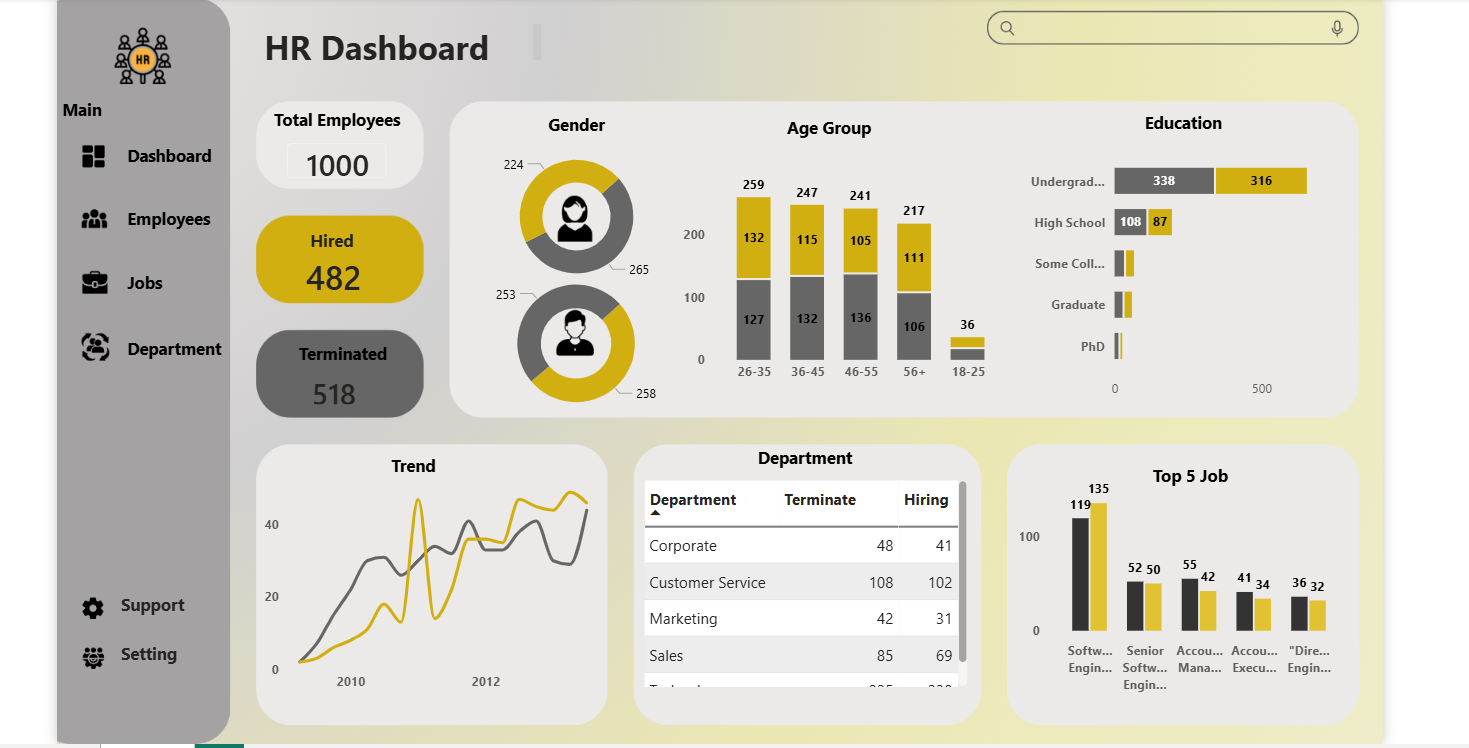

This screenshot's page, from the dashboard's own definition file:
{"tool":"powerbi","page":{"name":"Page 1","canvas":[1280,720],"ordinal":0},"visuals":[{"type":"textbox","box":[195,20,276.7,48.3],"z":0},{"type":"cardVisual","fields":{"Data":["HR_Dataset.Total_Employees"]},"box":[205,123.3,130,68.3],"z":1000},{"type":"cardVisual","fields":{"Data":["HR_Dataset.Hiring"]},"box":[211.7,236.7,131.7,63.3],"z":2000},{"type":"cardVisual","fields":{"Data":["HR_Dataset.Terminate"]},"box":[216.7,352.2,108.9,57.8],"z":3000},{"type":"donutChart","fields":{"Category":["HR_Dataset.Active_Status"],"Y":["CountNonNull(HR_Dataset.Gender)"]},"box":[406.2,123.8,190,173.8],"z":4000},{"type":"donutChart","fields":{"Category":["HR_Dataset.Active_Status"],"Y":["CountNonNull(HR_Dataset.Gender)"]},"box":[395,248.3,213.3,170],"z":5000},{"type":"columnChart","fields":{"Category":["HR_Dataset.Age_Group"],"Y":["CountNonNull(HR_Dataset.EmployeeID)"],"Series":["HR_Dataset.Active_Status"]},"box":[600,155,323.3,225],"z":6000},{"type":"barChart","fields":{"Category":["HR_Dataset.Education"],"Y":["CountNonNull(HR_Dataset.EmployeeID)"],"Series":["HR_Dataset.Active_Status"]},"box":[923.3,135,340,260],"z":7000},{"type":"lineChart","fields":{"Y":["CountNonNull(HR_Dataset.EmployeeID)"],"Category":["HR_Dataset.Start_Date.Variation.Date Hierarchy.Year","HR_Dataset.Start_Date.Variation.Date Hierarchy.Quarter"],"Series":["HR_Dataset.Active_Status"]},"box":[195,460,335,218.3],"z":8000},{"type":"tableEx","fields":{"Values":["HR_Dataset.Department","HR_Dataset.Terminate","HR_Dataset.Hiring"]},"box":[561.4,461.4,322.9,208.6],"z":9000},{"type":"clusteredColumnChart","fields":{"Category":["HR_Dataset.Job_title"],"Y":["CountNonNull(HR_Dataset.EmployeeID)"],"Series":["HR_Dataset.Active_Status"]},"box":[923.3,451.7,330,226.7],"z":10000},{"type":"textbox","box":[173.3,101.7,193.3,33.3],"z":11000},{"type":"textbox","box":[433.3,106.7,136.7,35],"z":12000},{"type":"textbox","box":[216.2,327.5,120,32.5],"z":13000},{"type":"textbox","box":[211.7,218.3,108.3,33.3],"z":14000},{"type":"textbox","box":[661.7,108.3,168.3,31.7],"z":15000},{"type":"textbox","box":[1001.7,103.3,171.7,31.7],"z":16000},{"type":"textbox","box":[640,426.7,165,38.3],"z":17000},{"type":"textbox","box":[250,435,188.3,33.3],"z":18000},{"type":"textbox","box":[1011.7,445,163.3,38.3],"z":19000},{"type":"textbox","box":[0,91.7,75,43.3],"z":20000},{"type":"textbox","box":[63.3,196.7,111.7,43.3],"z":21000},{"type":"textbox","box":[63.3,258.3,95,31.7],"z":22000},{"type":"textbox","box":[63.3,321.7,111.7,38.3],"z":23000},{"type":"textbox","box":[63.3,136.7,93.3,40],"z":24000},{"type":"textbox","box":[56.7,616.7,101.7,36.7],"z":25000},{"type":"textbox","box":[56.7,570,111.7,36.7],"z":25001}]}

Visuals, with their boxes on the page's 1280x720 design canvas (x1, y1, x2, y2). These are canvas units, not pixel positions in the 1469x748 screenshot, which may show the page scaled, cropped or inside an application window:
textbox: crop(195, 20, 472, 68)
cardVisual - HR_Dataset.Total_Employees: crop(205, 123, 335, 192)
cardVisual - HR_Dataset.Hiring: crop(212, 237, 343, 300)
cardVisual - HR_Dataset.Terminate: crop(217, 352, 326, 410)
donutChart - HR_Dataset.Active_Status x CountNonNull(HR_Dataset.Gender): crop(406, 124, 596, 298)
donutChart - HR_Dataset.Active_Status x CountNonNull(HR_Dataset.Gender): crop(395, 248, 608, 418)
columnChart - HR_Dataset.Age_Group x CountNonNull(HR_Dataset.EmployeeID): crop(600, 155, 923, 380)
barChart - HR_Dataset.Education x CountNonNull(HR_Dataset.EmployeeID): crop(923, 135, 1263, 395)
lineChart - CountNonNull(HR_Dataset.EmployeeID) x HR_Dataset.Start_Date.Variation.Date Hierarchy.Year: crop(195, 460, 530, 678)
tableEx - HR_Dataset.Department x HR_Dataset.Terminate: crop(561, 461, 884, 670)
clusteredColumnChart - HR_Dataset.Job_title x CountNonNull(HR_Dataset.EmployeeID): crop(923, 452, 1253, 678)
textbox: crop(173, 102, 367, 135)
textbox: crop(433, 107, 570, 142)
textbox: crop(216, 328, 336, 360)
textbox: crop(212, 218, 320, 252)
textbox: crop(662, 108, 830, 140)
textbox: crop(1002, 103, 1173, 135)
textbox: crop(640, 427, 805, 465)
textbox: crop(250, 435, 438, 468)
textbox: crop(1012, 445, 1175, 483)
textbox: crop(0, 92, 75, 135)
textbox: crop(63, 197, 175, 240)
textbox: crop(63, 258, 158, 290)
textbox: crop(63, 322, 175, 360)
textbox: crop(63, 137, 157, 177)
textbox: crop(57, 617, 158, 653)
textbox: crop(57, 570, 168, 607)
